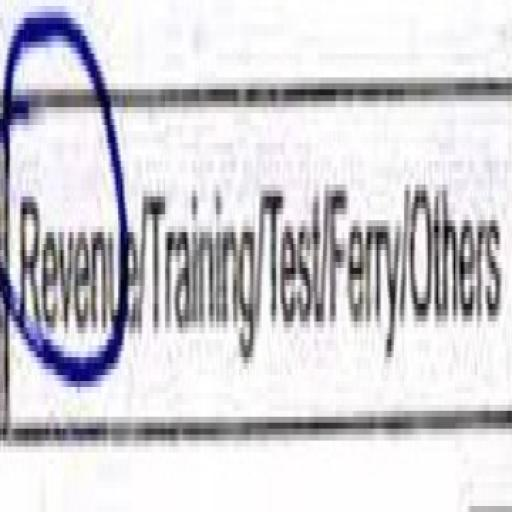check: (0, 0, 141, 440)
